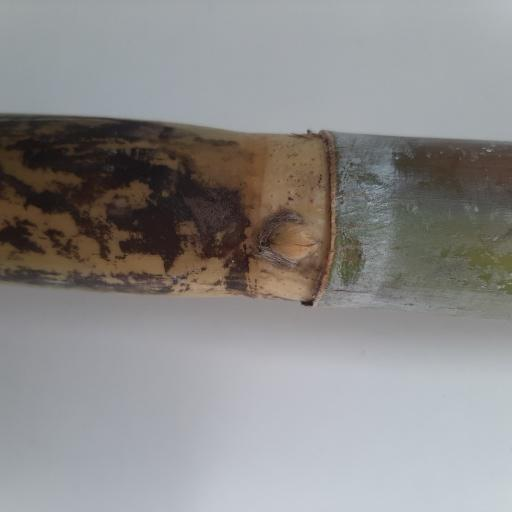Bud: (259, 218, 324, 263)
